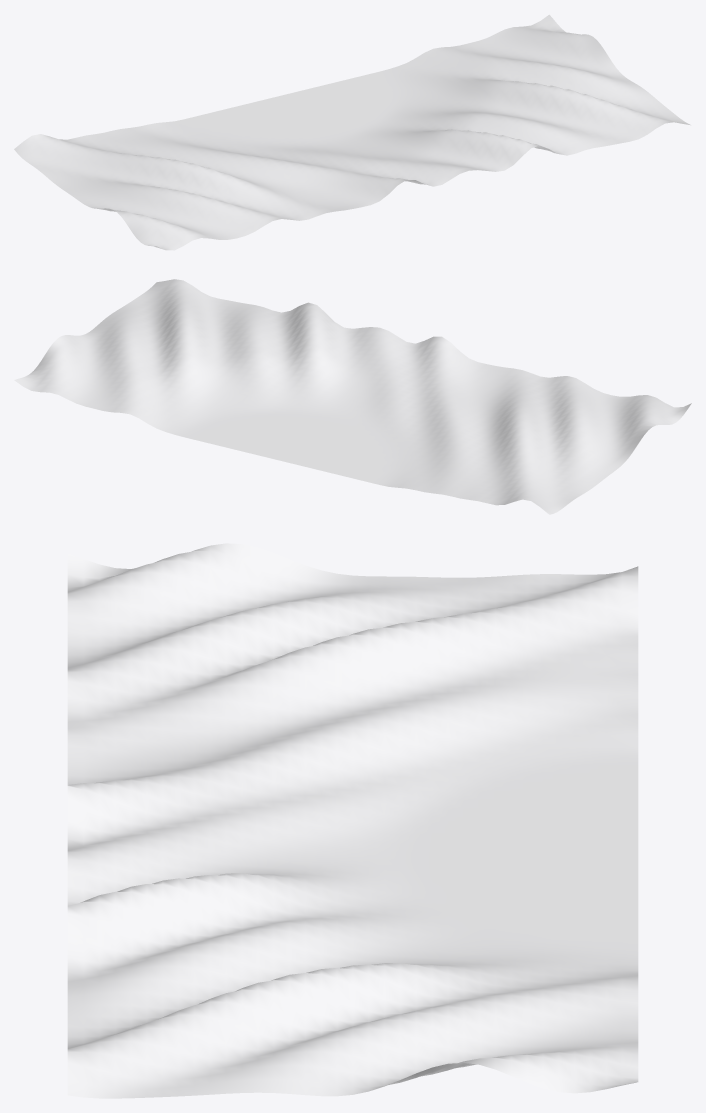
Rendered from WardCountry.obj.
The picture shows the model from 3 angles, top to bottom: view 1: azimuth 30°, elevation 25°; view 2: azimuth 150°, elevation 25°; view 3: azimuth 270°, elevation 25°; orthographic projection. The views are drawn at different scales.
Parts seen in each view (by area): view 1: WardCountry; view 2: WardCountry; view 3: WardCountry.
Part boxes in pixels (x1=…): WardCountry: x1=14, y1=14, x2=690, y2=250; WardCountry: x1=14, y1=279, x2=691, y2=514; WardCountry: x1=67, y1=543, x2=638, y2=1098.
Bounding box in the file's own units: 3000 × 151 × 1384.
Materials: 1 (1 with a texture image).
